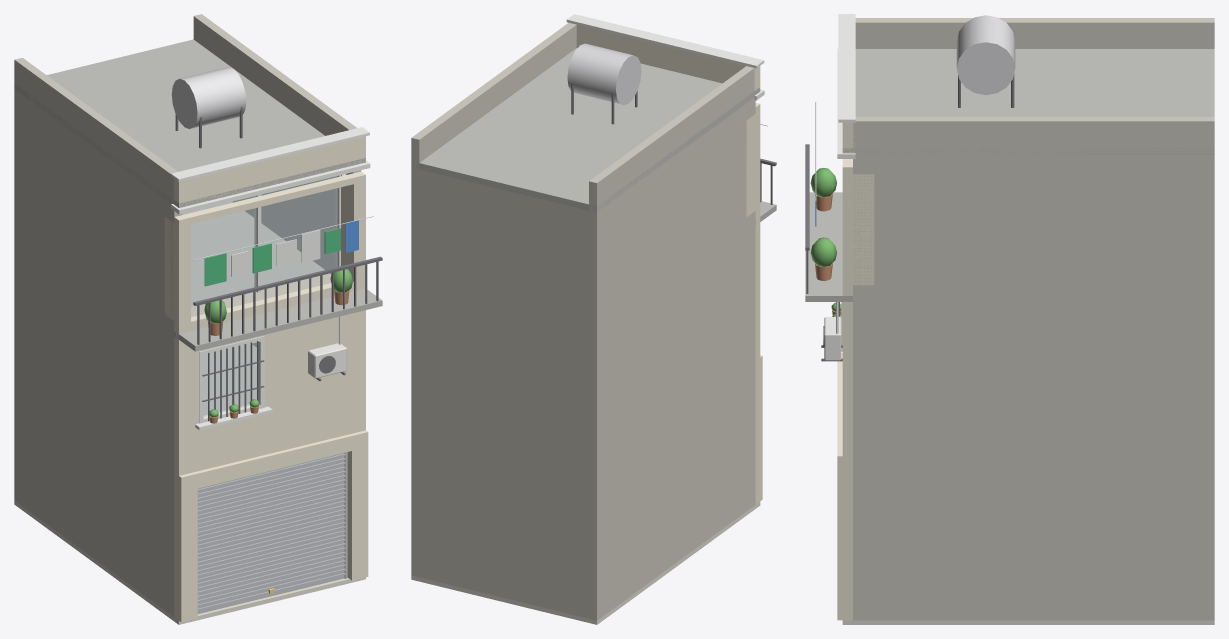
File: SM_Shop_ClosedPlain.fbx
3 views of the same model, side by side, from view 1: azimuth 30°, elevation 25°; view 2: azimuth 150°, elevation 25°; view 3: azimuth 270°, elevation 25° (orthographic). The views are drawn at different scales.
Visible parts, largest first — view 1: SM_Shop_ClosedPlain; view 2: SM_Shop_ClosedPlain; view 3: SM_Shop_ClosedPlain.
Part boxes in pixels (x1=…): SM_Shop_ClosedPlain: x1=14, y1=14, x2=382, y2=624; SM_Shop_ClosedPlain: x1=411, y1=14, x2=776, y2=624; SM_Shop_ClosedPlain: x1=805, y1=14, x2=1214, y2=624.
Size of the model in its own units: 4.7 by 11.3 by 7.7.
